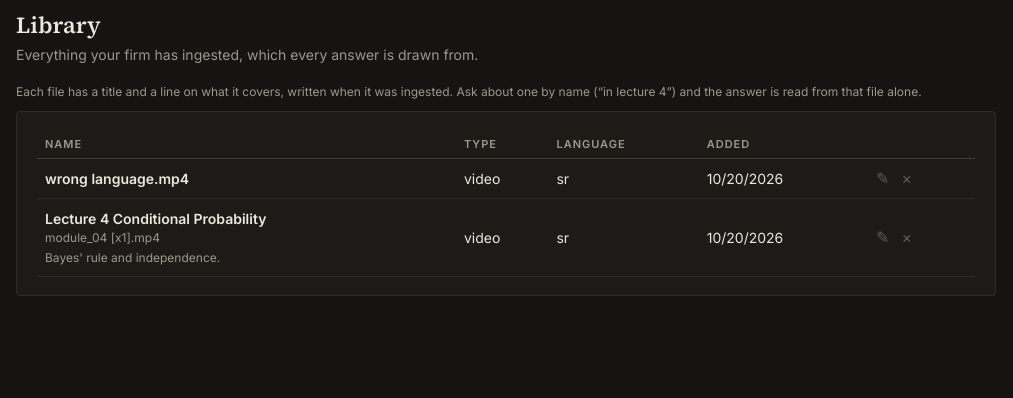
Test: titles in the Library › lets an administrator retitle a file
The image size is (1013, 398).
Click the button named "Rename" at (883, 237), box x1=870 y1=227 x2=895 y2=247
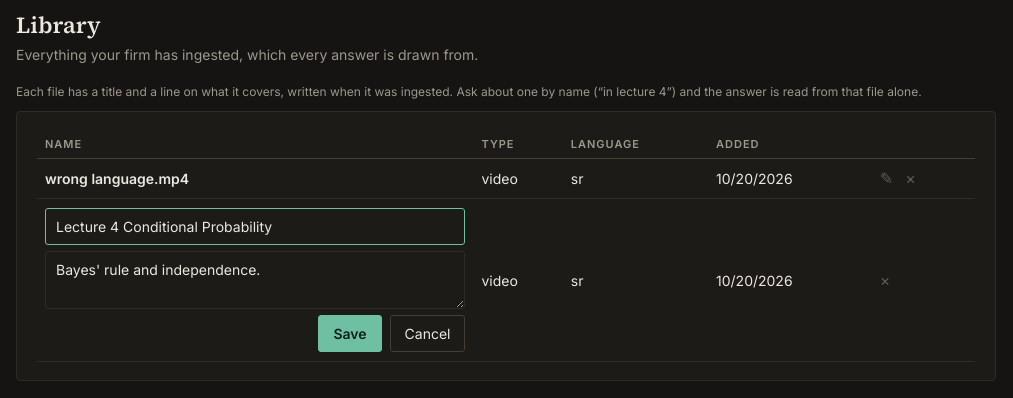
Replace the text in the field named "Title" with "Stat 110, Lecture 4" at (255, 227), box x1=45 y1=208 x2=466 y2=245
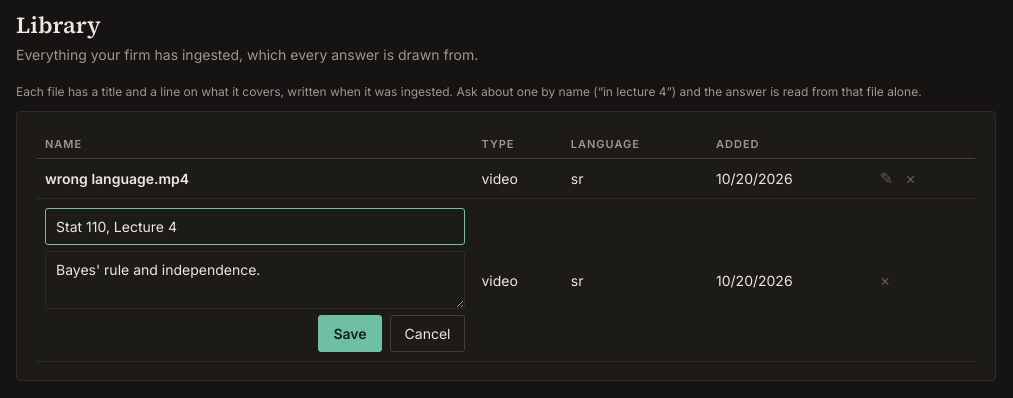
Replace the text in the text box named "What it covers" with "Bayes." at (255, 280), box x1=45 y1=251 x2=466 y2=309
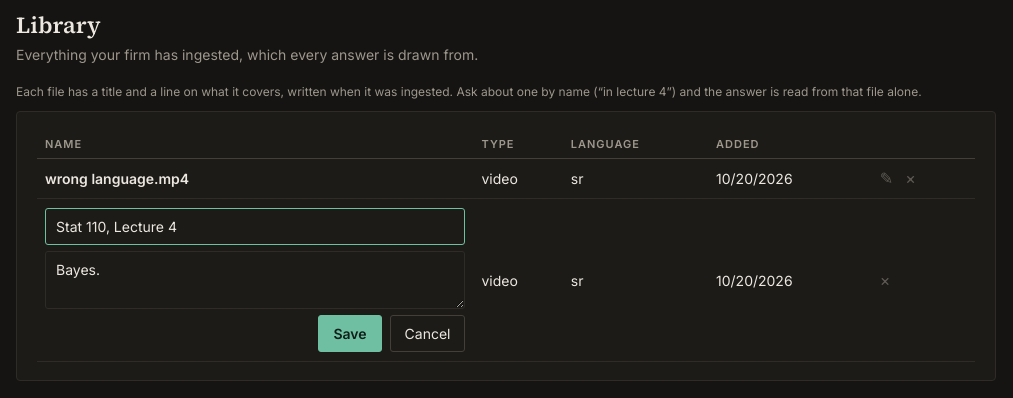
Click the button "Save" at (350, 334), box x1=318 y1=315 x2=382 y2=352
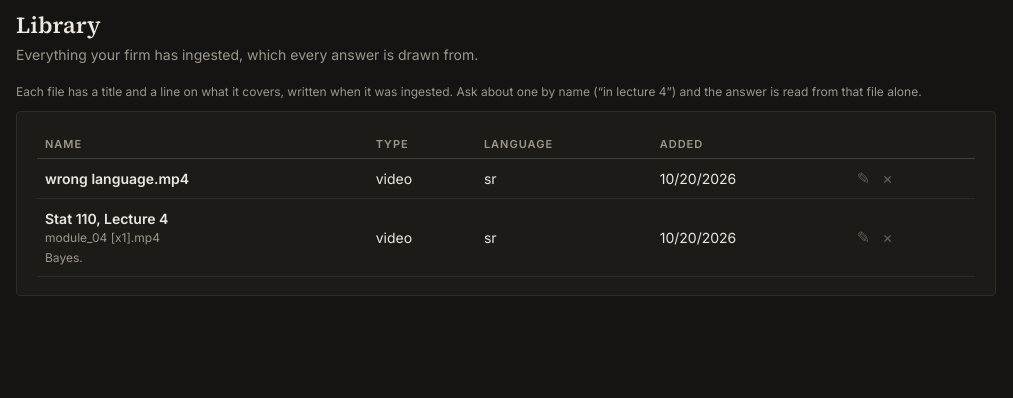
Result: the text "Stat 110, Lecture 4" is shown at x1=45 y1=210 x2=168 y2=227
